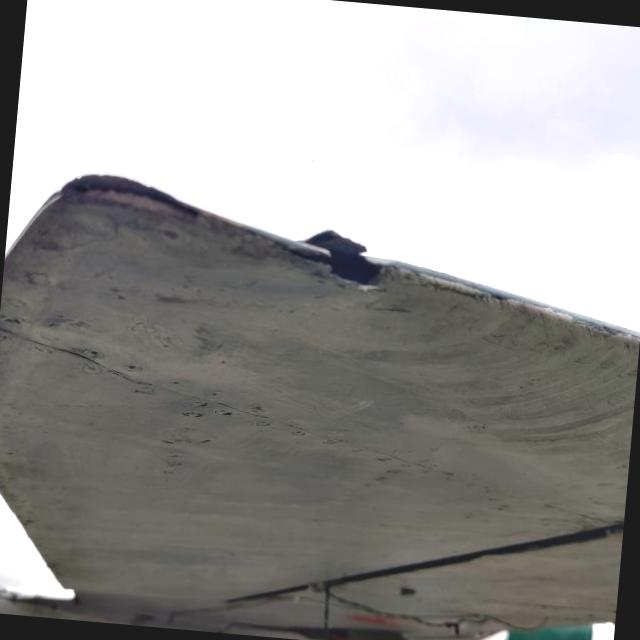crack: (273, 208, 410, 306)
